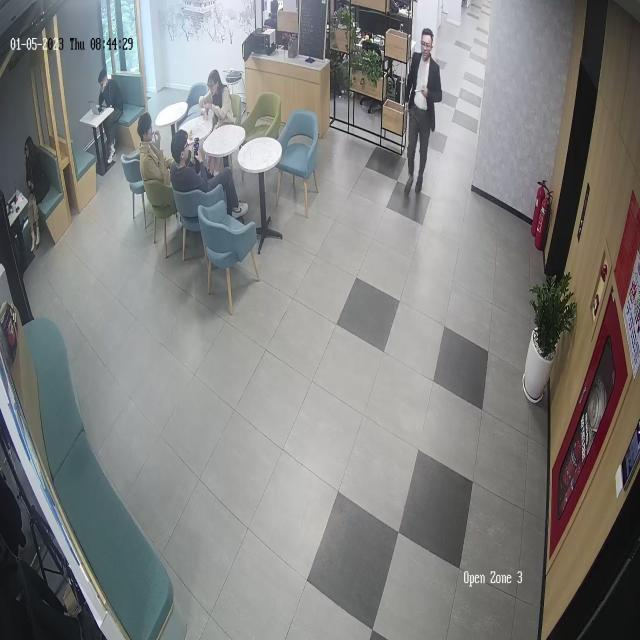person: (403, 27, 442, 196), (21, 135, 49, 253), (98, 66, 126, 162), (137, 111, 172, 187), (170, 130, 206, 188), (199, 70, 234, 124), (187, 134, 210, 179)
